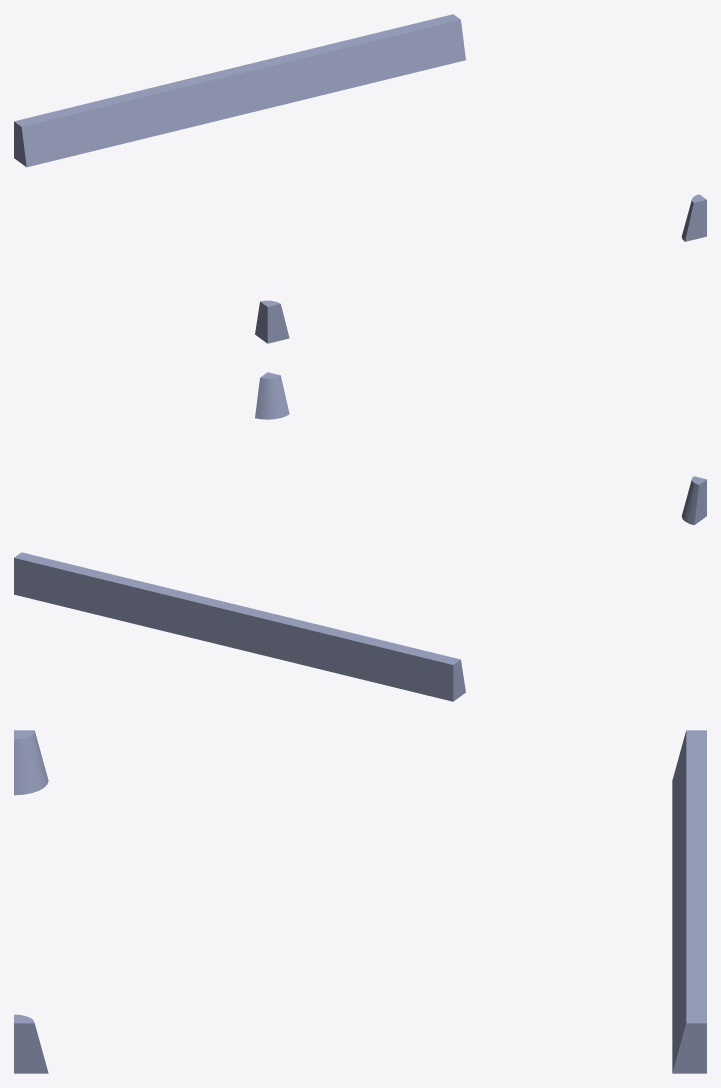
The model's file is road-intersection-barrier.glb.
3 views of the same model, one above another, from view 1: azimuth 30°, elevation 25°; view 2: azimuth 150°, elevation 25°; view 3: azimuth 270°, elevation 25° (orthographic). The views are drawn at different scales.
Visible parts, largest first — view 1: road-intersection-barrier; view 2: road-intersection-barrier; view 3: road-intersection-barrier.
Boxes of the visible parts, x1=… form: road-intersection-barrier: x1=14, y1=14, x2=706, y2=343; road-intersection-barrier: x1=14, y1=372, x2=706, y2=701; road-intersection-barrier: x1=14, y1=730, x2=706, y2=1073.
Size of the model in its own units: 1 by 0.08 by 1.
1 material, 1 textured.
